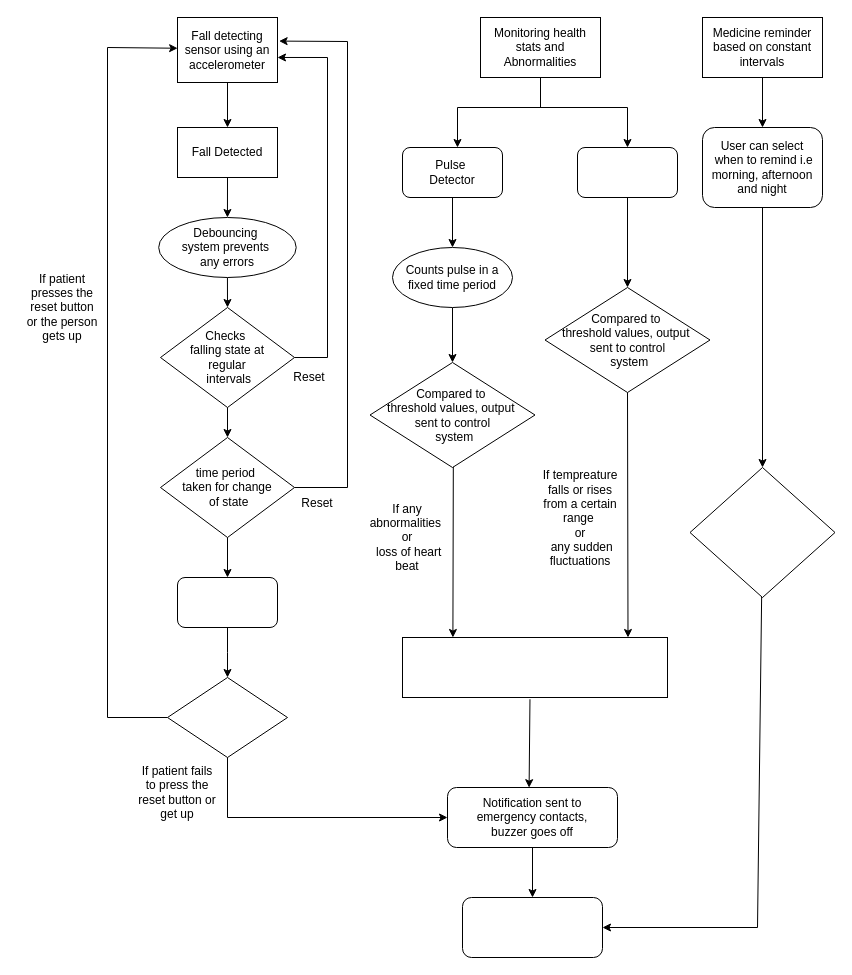
Some shapes in this 852 by 975 pixel diagram are drawn without their labels. The centre of each missing label's shape, as x and y in pixels:
A minor alarm sent to the patient: (227,602)
A recovery timer starts: (227,717)
Alarm system: (532,927)
Circuit keeps track of time and whether user has set remainder on: (762,532)
CONTROL SYSTEM: (535,667)
Thermo sensor: (627,172)
